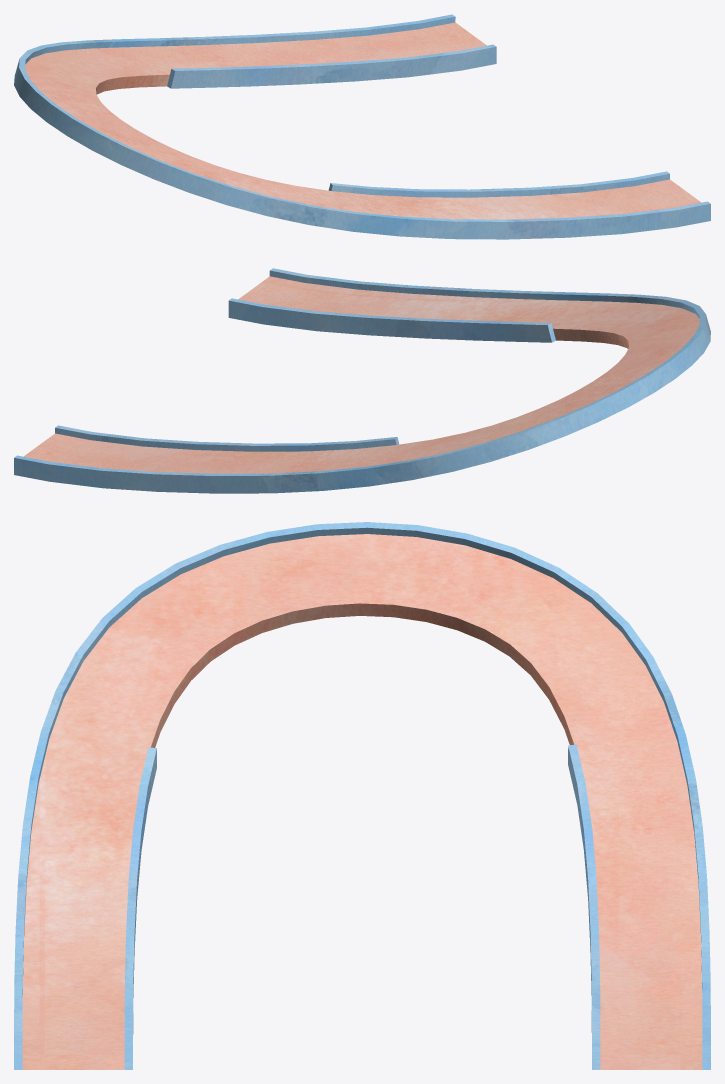
Rendered from Stage_slant3.fbx.
The picture shows the model from 3 angles, top to bottom: view 1: azimuth 30°, elevation 25°; view 2: azimuth 150°, elevation 25°; view 3: azimuth 270°, elevation 25°; orthographic projection. The views are drawn at different scales.
Visible parts, largest first — view 1: Stage_slant_005, Stage_slant_006; view 2: Stage_slant_005, Stage_slant_006; view 3: Stage_slant_006, Stage_slant_005.
Part boxes in pixels (left/top/right/bottom): Stage_slant_005: left=14, top=14, right=710, bottom=239; Stage_slant_006: left=25, top=22, right=700, bottom=219; Stage_slant_005: left=14, top=268, right=710, bottom=493; Stage_slant_006: left=24, top=276, right=699, bottom=473; Stage_slant_006: left=22, top=534, right=702, bottom=1069; Stage_slant_005: left=14, top=522, right=710, bottom=1069.
Size of the model in its own units: 5853 by 1564 by 4919.
